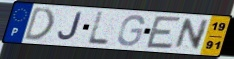D: (22, 6, 56, 42)
E: (144, 15, 183, 51)
G: (116, 13, 147, 47)
J: (57, 11, 84, 42)
L: (86, 11, 110, 46)
N: (172, 18, 211, 51)
